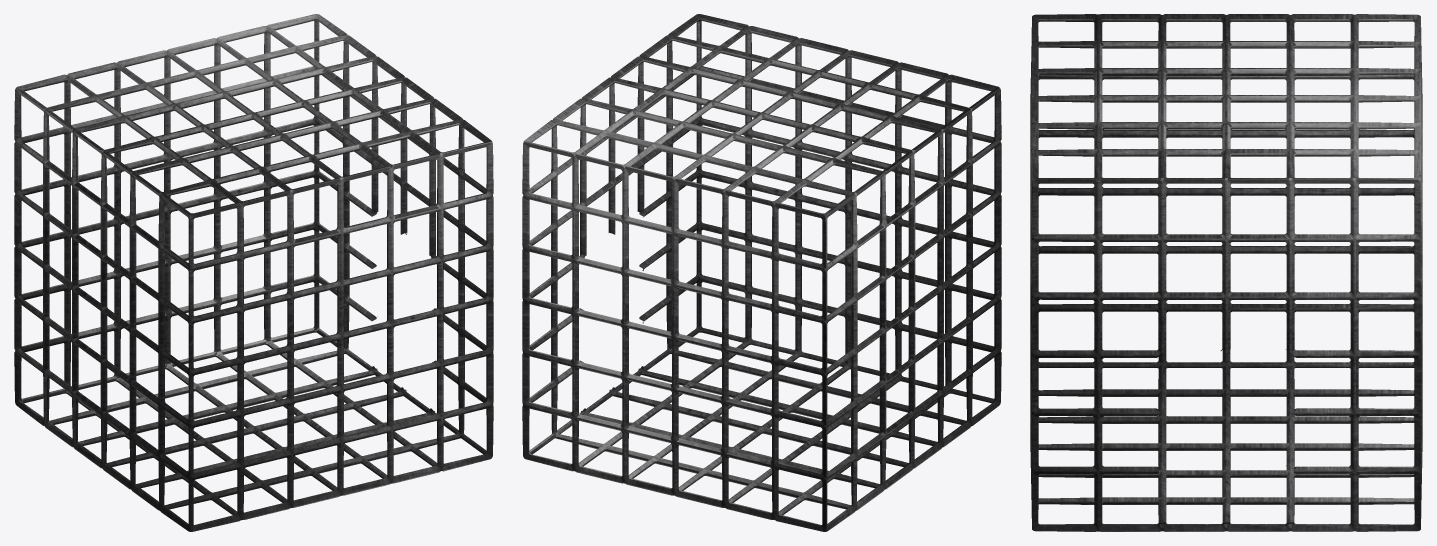
File: Lvl1_cube_big.fbx
3 views of the same model, side by side, from view 1: azimuth 30°, elevation 25°; view 2: azimuth 150°, elevation 25°; view 3: azimuth 270°, elevation 25° (orthographic). The views are drawn at different scales.
Parts seen in each view (by area): view 1: Cube big; view 2: Cube big; view 3: Cube big.
Part boxes in pixels (x1=…): Cube big: x1=14, y1=14, x2=493, y2=531; Cube big: x1=522, y1=14, x2=1001, y2=531; Cube big: x1=1030, y1=14, x2=1422, y2=531.
Bounding box in the file's own units: 8.01 × 8.01 × 8.01.
Materials: 1 (1 with a texture image).
